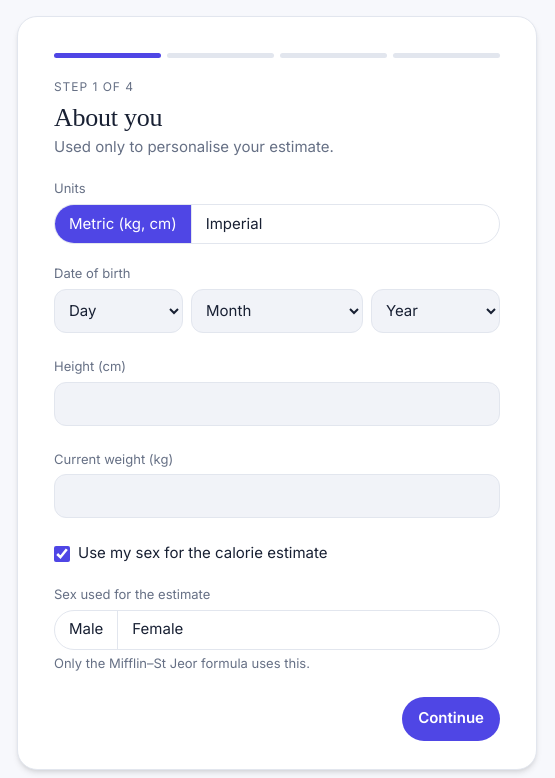
Test: OnboardingWizard › hides the sex control when the estimate is opted out
expect the element named "Sex used for the estimate" is shown: met, box [54, 610, 500, 650]
Click the checkbox labelled "Use my sex for the calorie estimate": (62, 554) [54, 546, 70, 562]
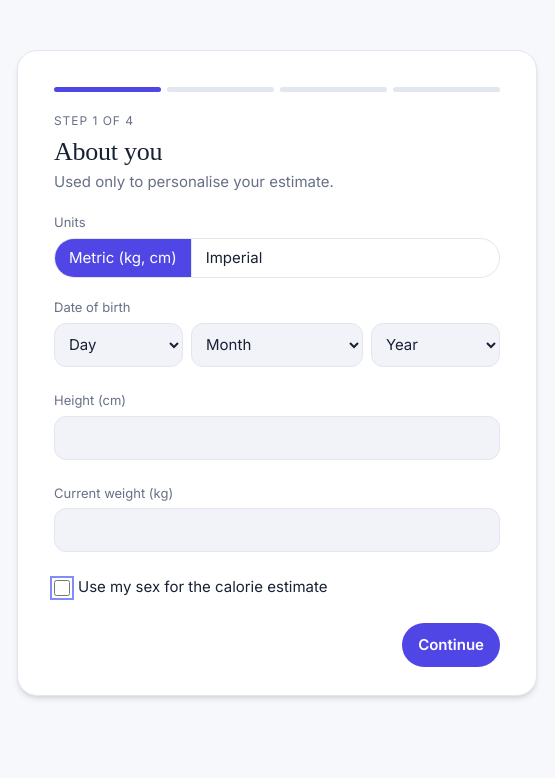
expect the label labelled "Sex used for the estimate" is gone: met
